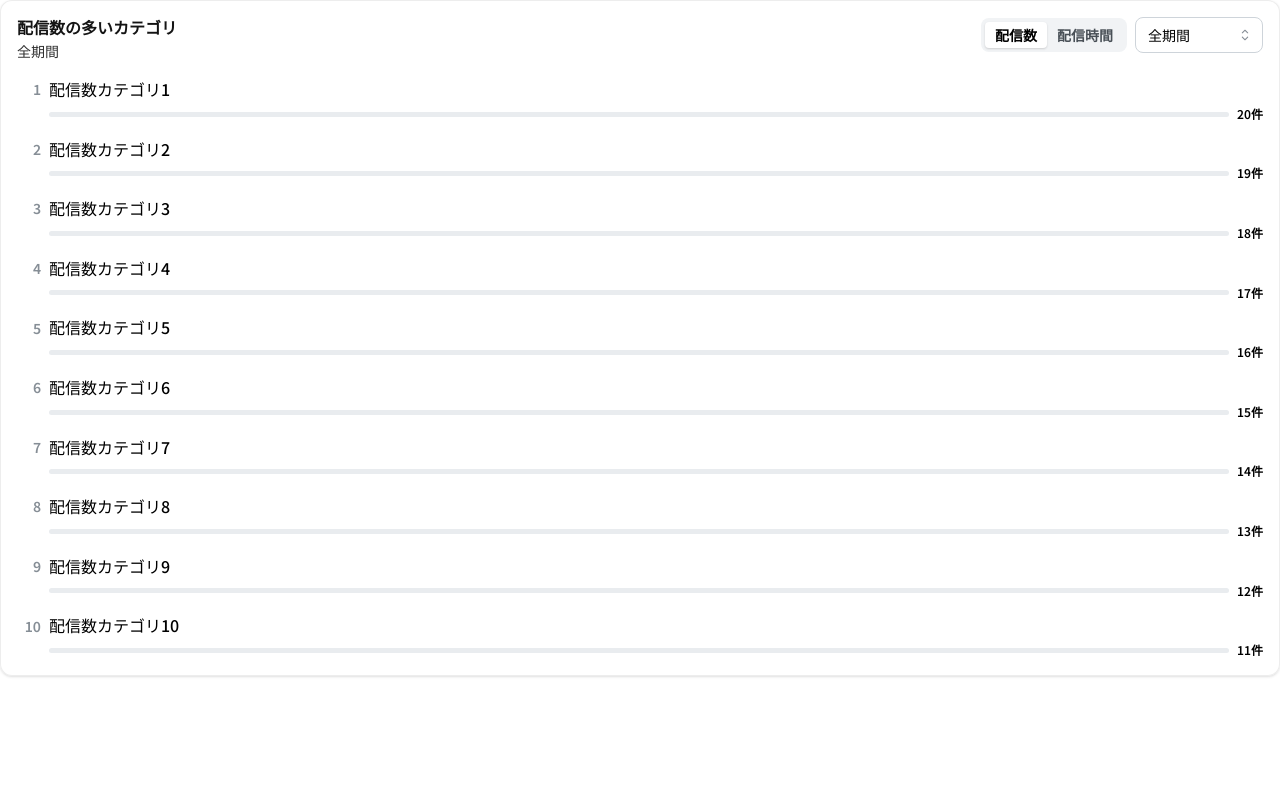
Scenario: ArchiveCategoryRanking › selects the top ten after applying the active metric
Expected: the text "長時間カテゴリ" is not shown
Click the radio button labelled "配信時間": x=1085, y=35 [1057,25,1113,45]
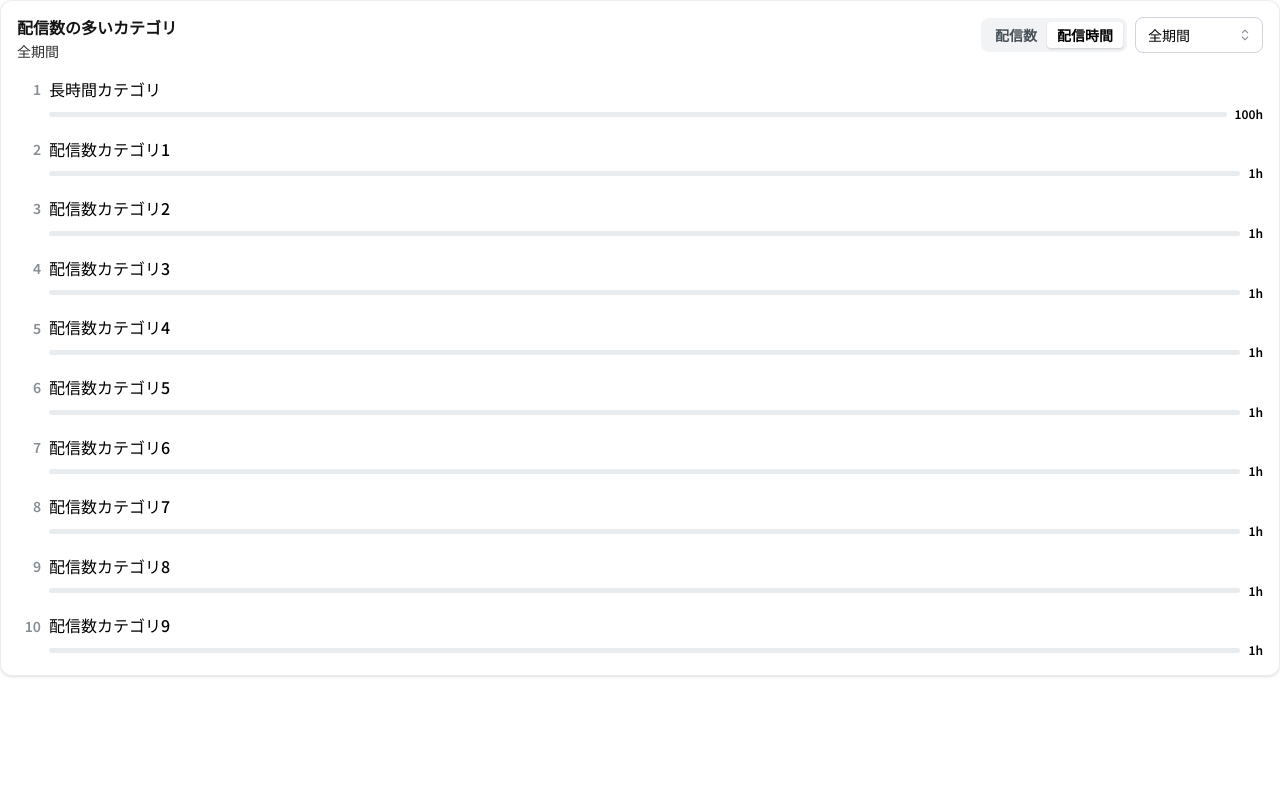
Expected: the list item "1 長時間カテゴリ 100h" is shown, [17,77,1263,123]
